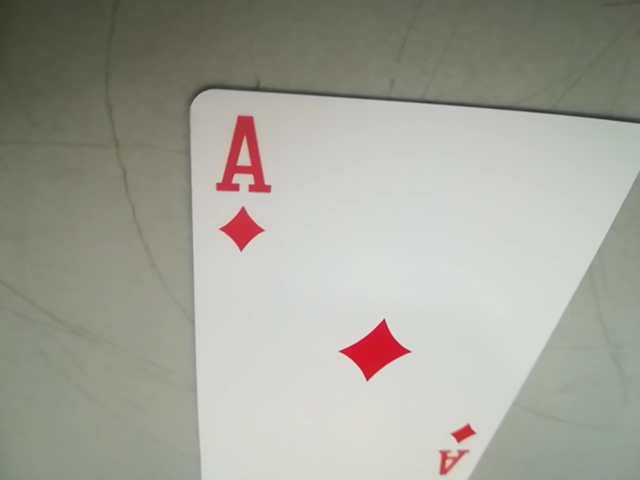fk a: (206, 96, 275, 205), (429, 419, 483, 480)
